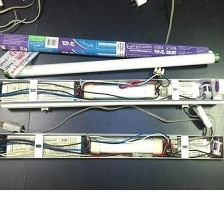book: (0, 29, 216, 59)
light_bulb: (0, 50, 223, 81)
